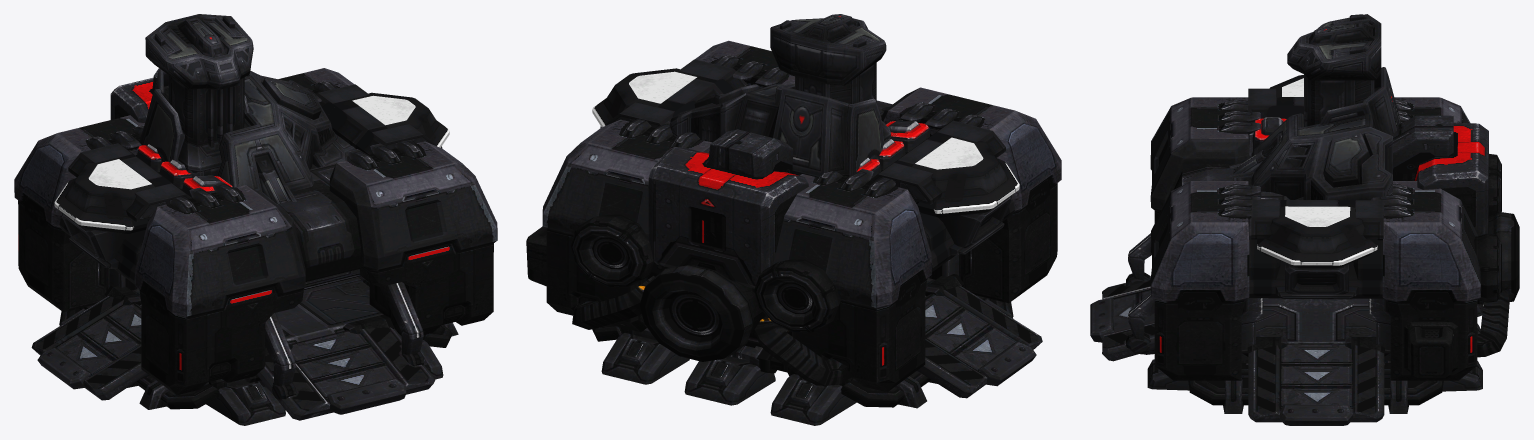
File: Factory.obj
3 renders of one model, left to right at view 1: azimuth 30°, elevation 25°; view 2: azimuth 150°, elevation 25°; view 3: azimuth 270°, elevation 25°, orthographic. The views are drawn at different scales.
Parts seen in each view (by area): view 1: Shadow_Factory.m3.003; view 2: Shadow_Factory.m3.003; view 3: Shadow_Factory.m3.003.
Boxes of the visible parts, x1,y1,x2,y2 form: Shadow_Factory.m3.003: [14, 14, 497, 425]; Shadow_Factory.m3.003: [526, 14, 1061, 425]; Shadow_Factory.m3.003: [1090, 14, 1519, 425].
Size of the model in its own units: 5.15 by 3.88 by 5.04.
4 materials, 4 textured.
